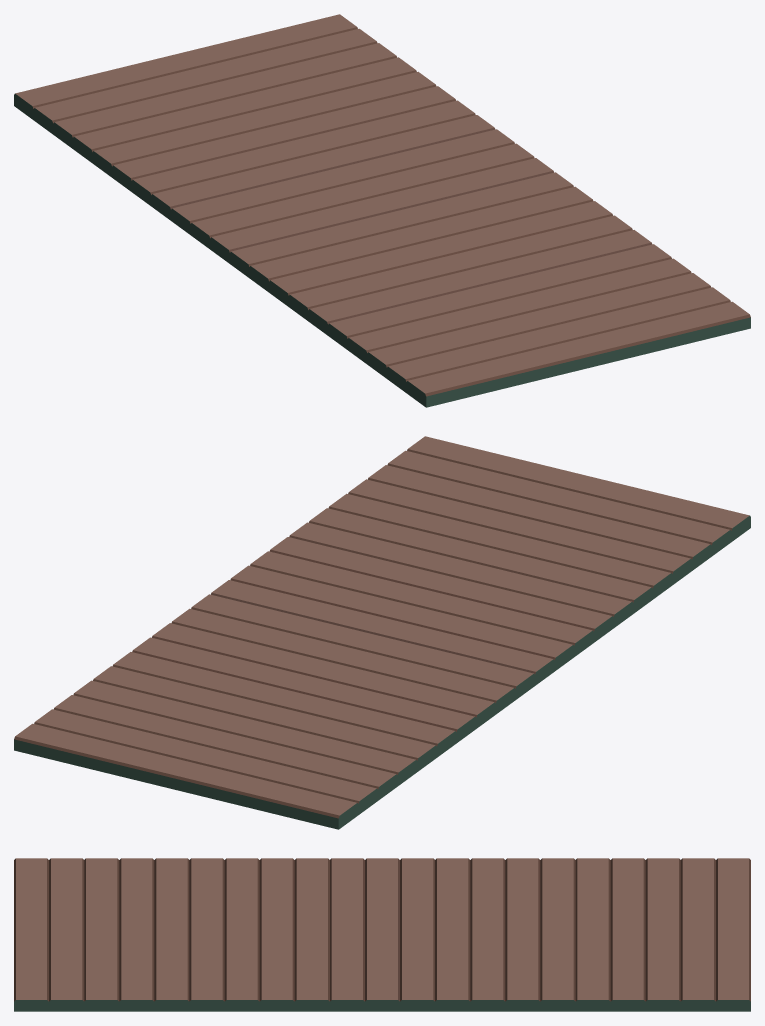
File: augur floor.fbx
The picture shows the model from 3 angles, top to bottom: view 1: azimuth 30°, elevation 25°; view 2: azimuth 150°, elevation 25°; view 3: azimuth 270°, elevation 25°; orthographic projection. The views are drawn at different scales.
Visible parts, largest first — view 1: augur floor; view 2: augur floor; view 3: augur floor.
Part boxes in pixels (<box>): augur floor: <box>14,14,750,407</box>; augur floor: <box>14,436,750,829</box>; augur floor: <box>14,858,750,1011</box>.
Size of the model in its own units: 382 by 15 by 840.
